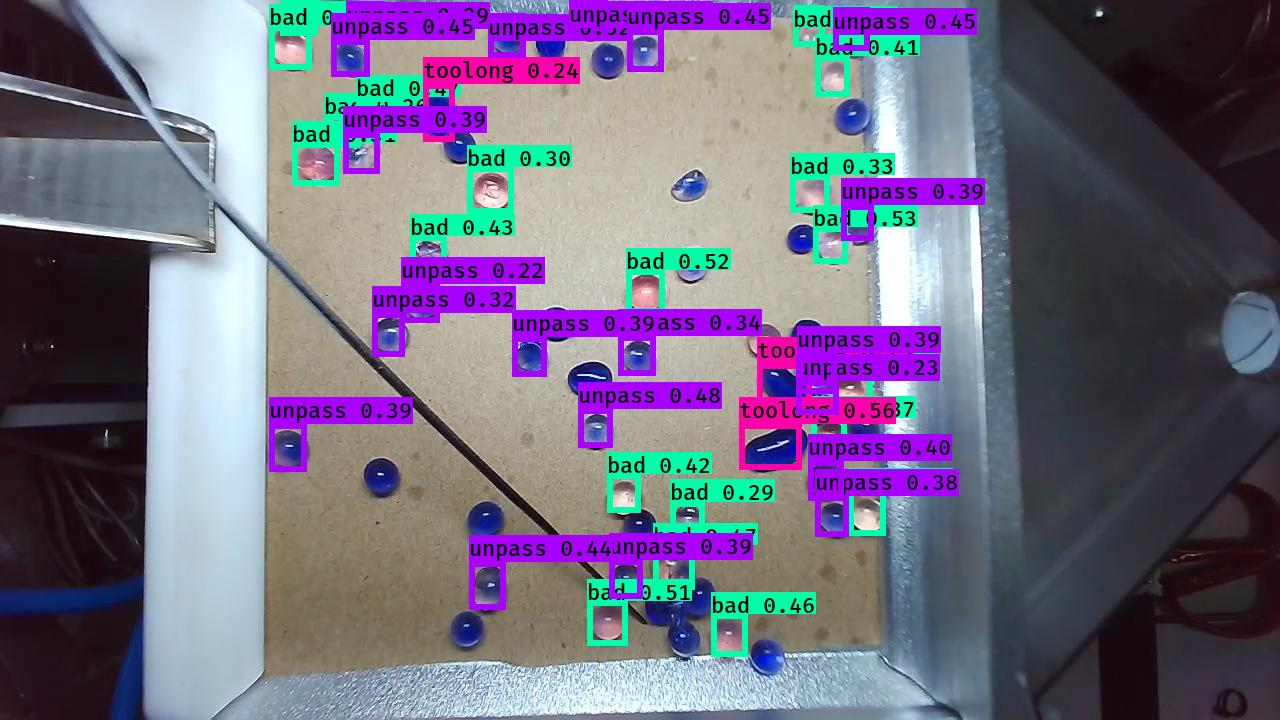bad: (790, 170, 837, 215), (649, 545, 695, 590), (295, 143, 342, 187), (469, 171, 514, 214), (793, 1, 830, 50), (627, 278, 671, 319), (272, 29, 313, 70), (706, 617, 747, 658), (845, 496, 886, 534), (359, 101, 395, 142), (589, 604, 625, 645), (814, 229, 852, 266), (820, 56, 854, 97), (409, 239, 451, 272), (750, 323, 787, 360), (832, 374, 871, 409), (607, 483, 644, 518), (282, 1, 319, 35), (329, 118, 365, 152), (671, 502, 704, 538), (814, 421, 848, 454)
defact: (669, 167, 708, 202)
pass: (566, 357, 613, 402), (465, 498, 508, 542), (361, 455, 401, 499), (643, 587, 686, 626), (847, 410, 882, 456), (620, 507, 658, 549), (835, 95, 872, 137), (449, 607, 484, 651), (537, 302, 575, 340), (441, 128, 481, 164), (534, 22, 569, 62), (788, 315, 825, 352), (667, 623, 703, 660), (686, 574, 715, 619), (783, 219, 818, 255), (590, 43, 625, 77)
toolong: (740, 423, 808, 472), (755, 362, 811, 414), (418, 85, 456, 142)
unpass: (832, 3, 874, 59), (267, 428, 313, 473), (792, 351, 837, 395), (468, 564, 506, 614), (574, 409, 616, 450), (370, 316, 410, 358), (813, 496, 853, 538), (343, 1, 385, 40), (624, 32, 662, 74), (749, 634, 787, 676), (621, 339, 660, 379), (808, 462, 845, 502), (401, 284, 439, 322), (332, 40, 369, 79), (673, 244, 710, 283), (490, 17, 526, 57), (513, 338, 548, 378), (573, 4, 608, 43), (345, 137, 382, 173), (842, 209, 876, 248), (799, 388, 835, 424), (607, 562, 641, 599)
